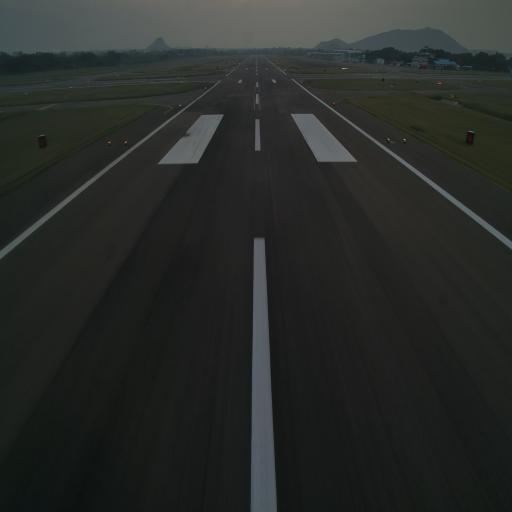on: (386, 135, 391, 144), (402, 136, 407, 144), (107, 139, 112, 146), (124, 138, 128, 145)
